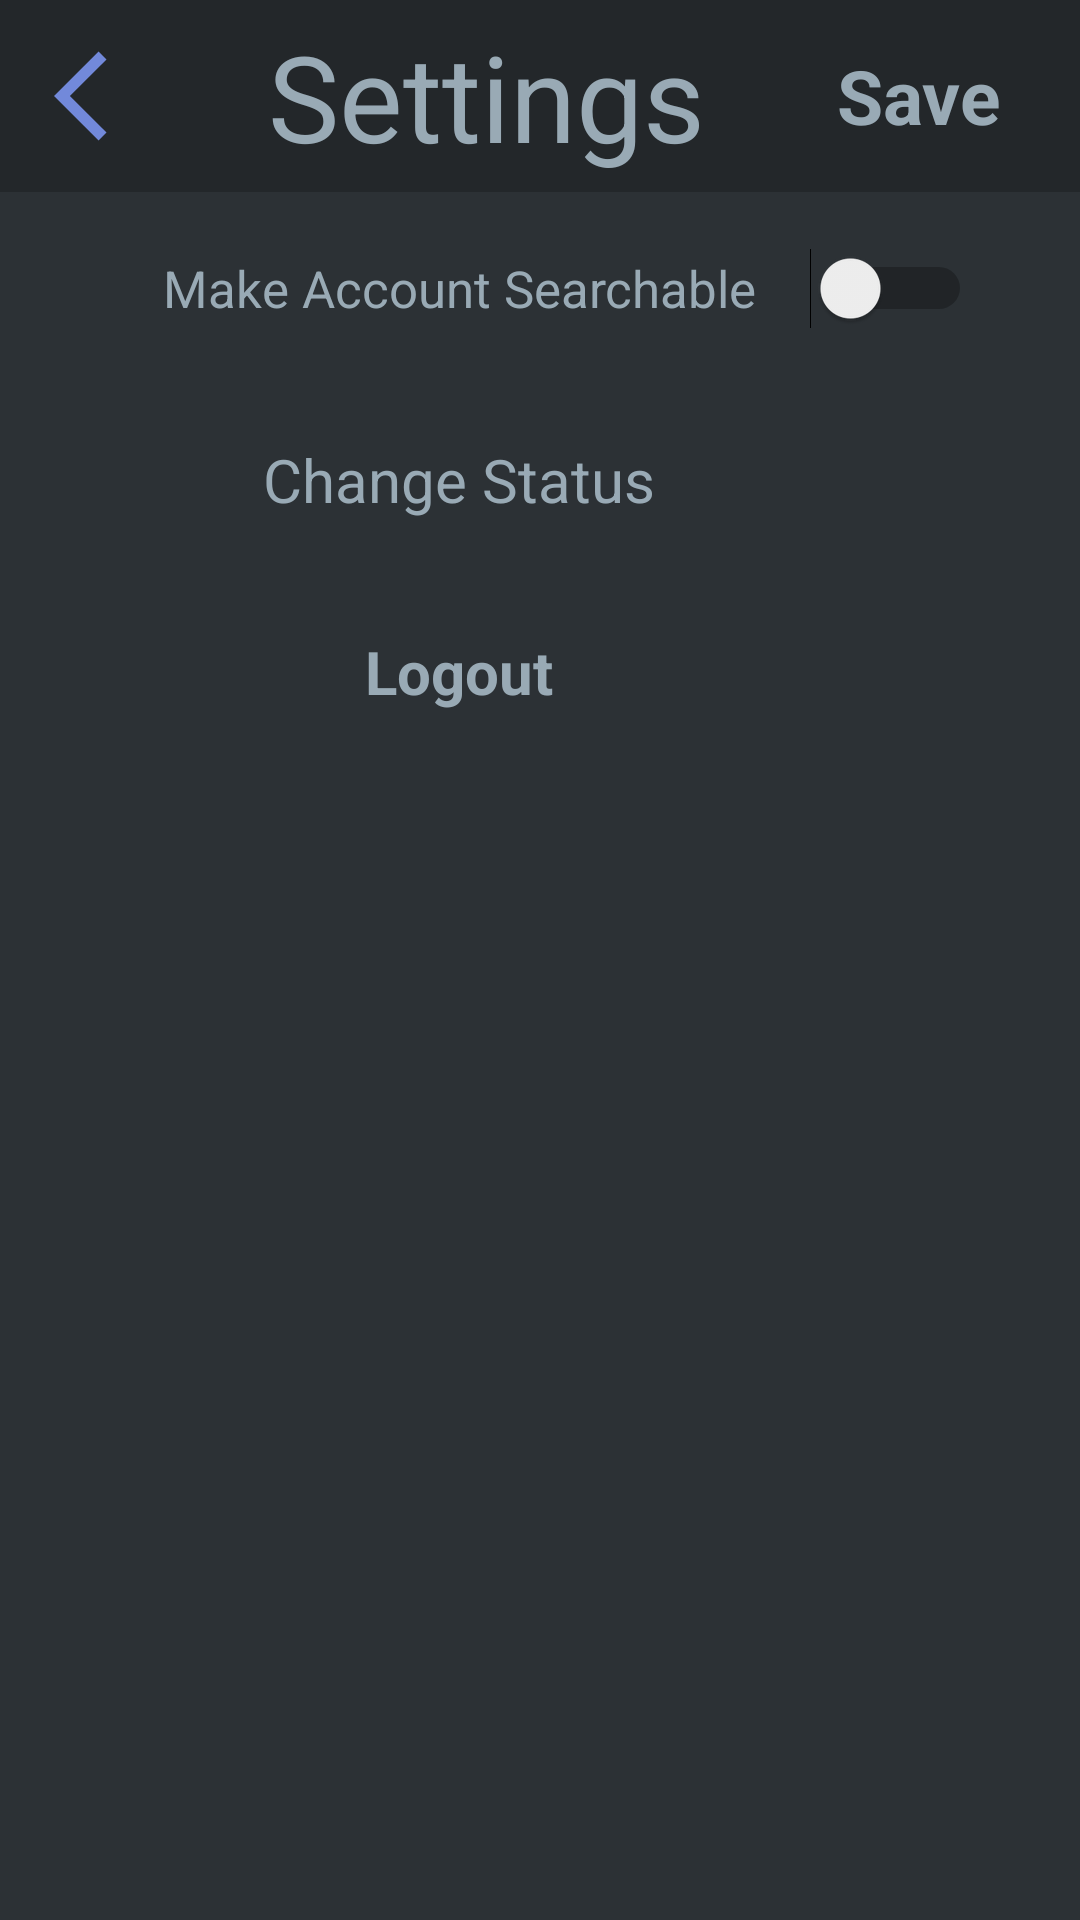

Locate icon controls on the screen. Image size 1080w x 1920h, boxes as [x1=x1, y1=y1, x2=x2, y2=y2].
arrow back: [x1=54, y1=51, x2=107, y2=141]
